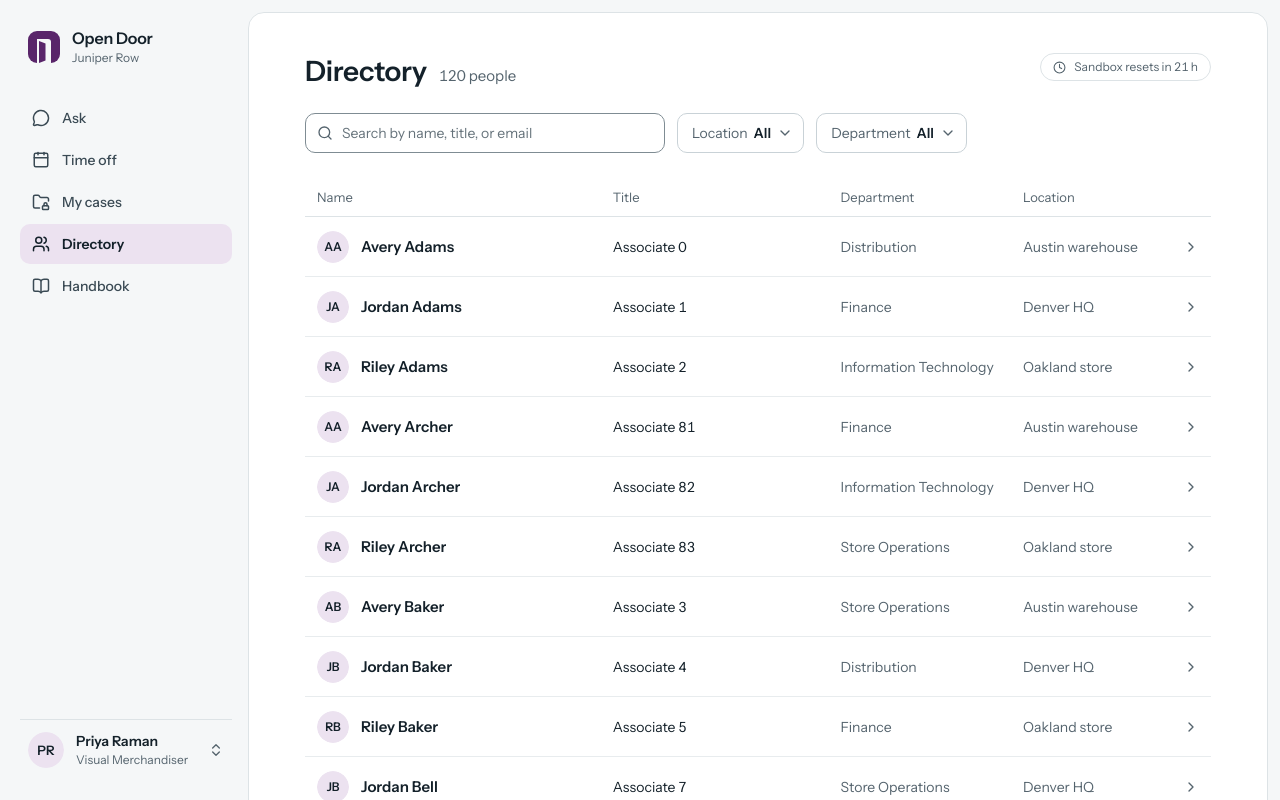
the shell: switching › shows "Switching to Marcus…", which the menu will not open on, then lands on /ask as Marcus with the toast
Check: the element named "Sidebar" is shown, box [0,0,248,799]
Click the button named "Switch persona".
click(126, 750)  # box [20,719,232,780]
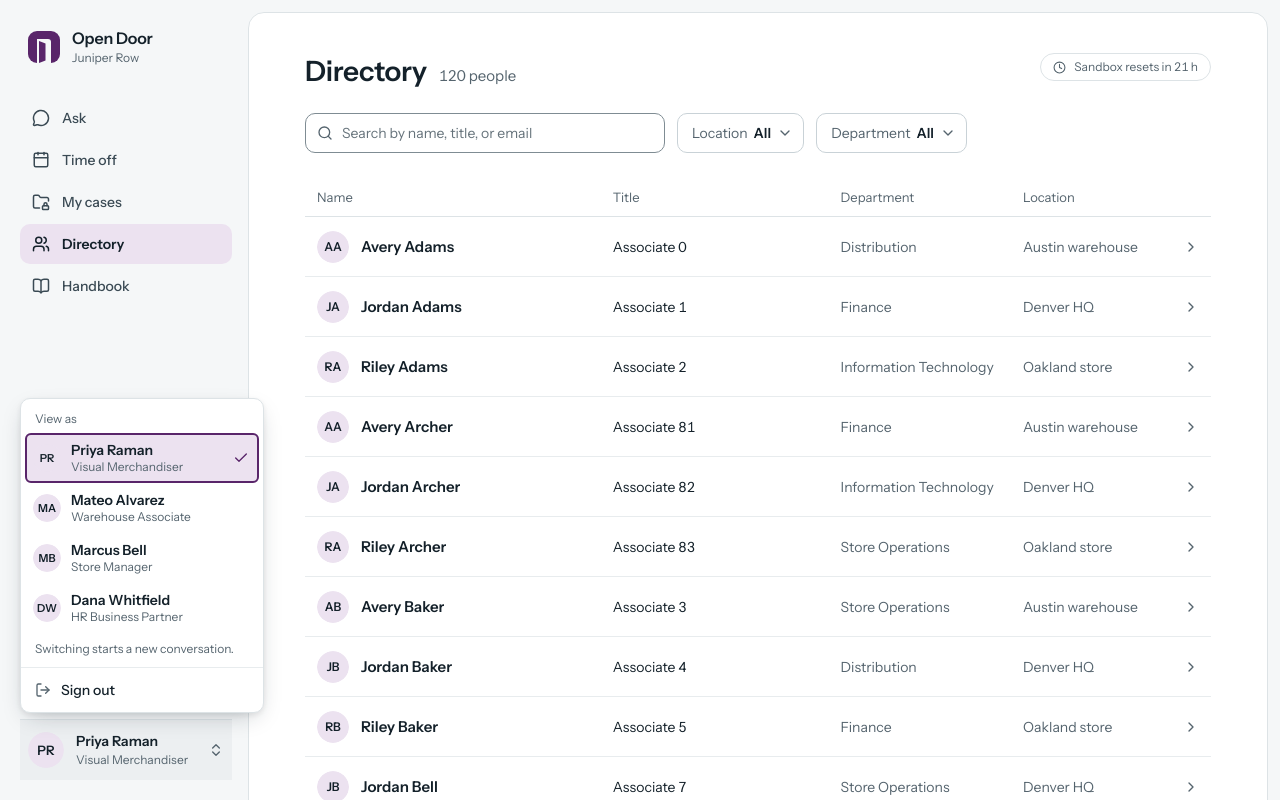
Click the menu item "MB Marcus Bell Store Manager".
click(93, 558)  # box [33,541,152,574]
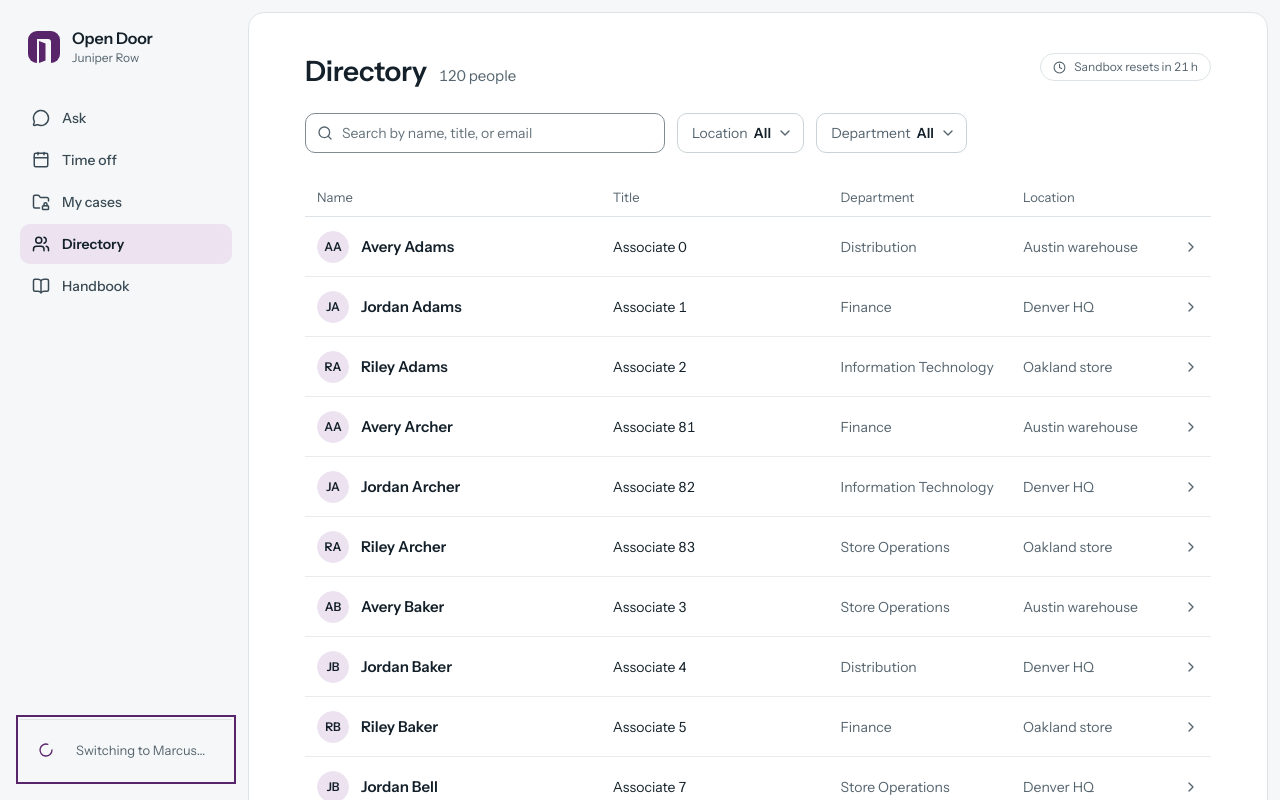
Check: the button "Switching to Marcus…" is disabled
Click the button "Switching to Marcus…".
click(126, 750)  # box [20,719,232,780]
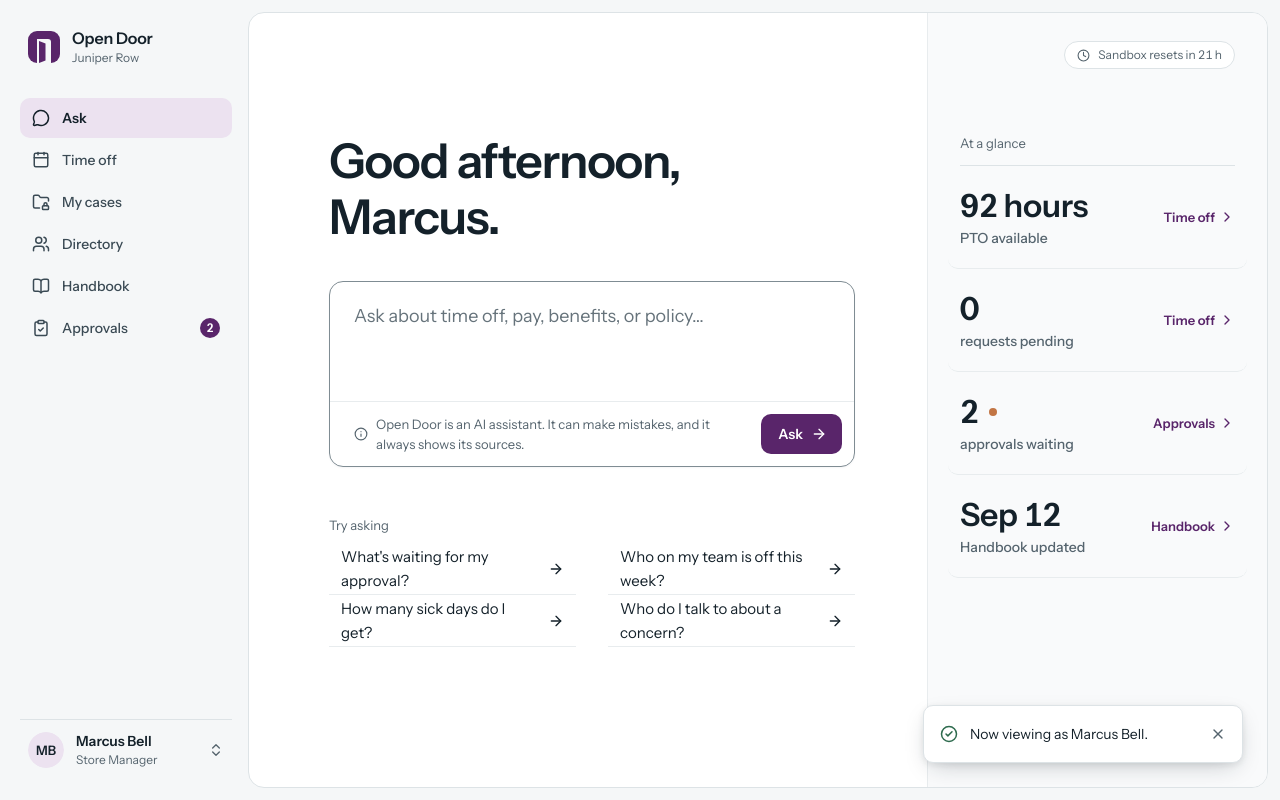
Check: the list item "Now viewing as Marcus Bell." is shown, box [923,705,1243,763]
Check: the button named "Dismiss" is shown, box [1202,718,1234,750]
